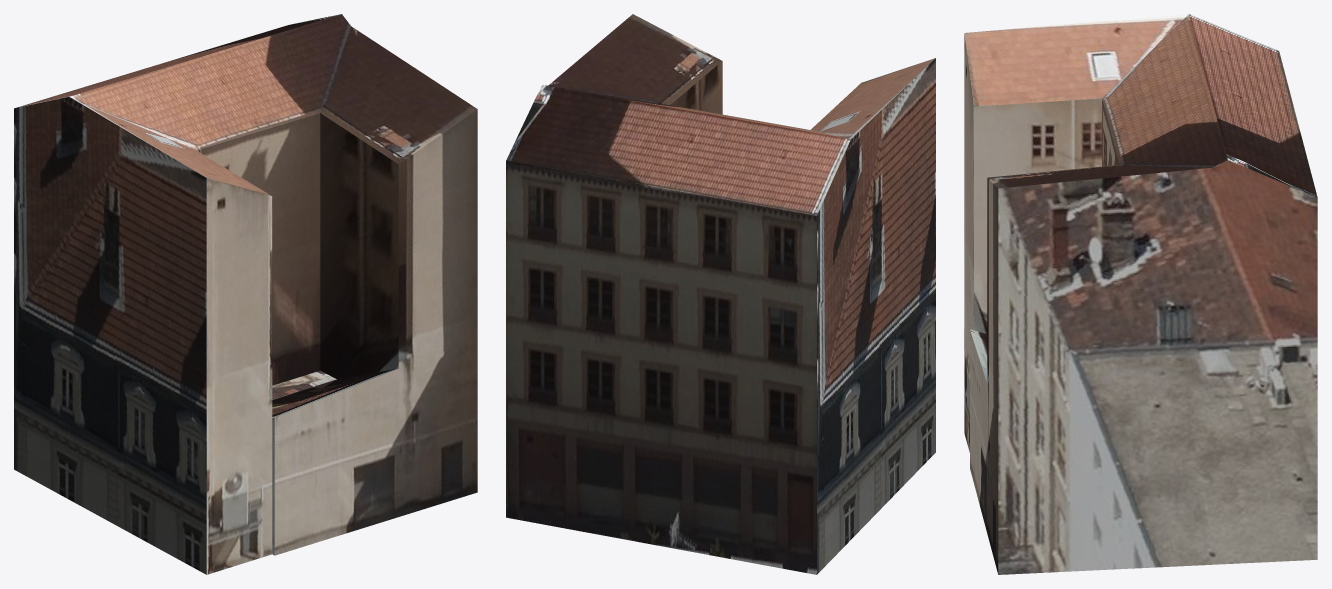
3 views of the same model, side by side, from view 1: azimuth 30°, elevation 25°; view 2: azimuth 150°, elevation 25°; view 3: azimuth 270°, elevation 25° (orthographic).
Parts seen in each view (by area): view 1: Z_UP; view 2: Z_UP; view 3: Z_UP.
Boxes of the visible parts, x1=… form: Z_UP: x1=14, y1=14, x2=477, y2=574; Z_UP: x1=506, y1=14, x2=935, y2=574; Z_UP: x1=964, y1=14, x2=1317, y2=574.
Size of the model in its own units: 14.4 by 17.09 by 13.46.
Materials: 2 (1 with a texture image).
